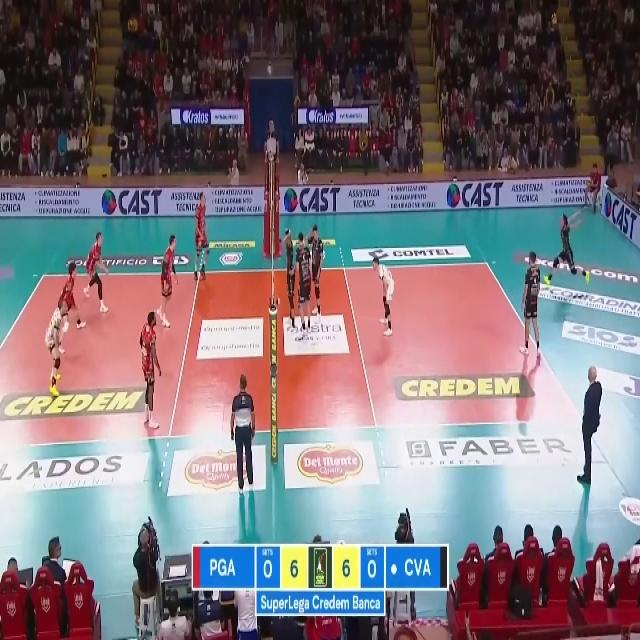volleyball court: (0, 261, 588, 452)
